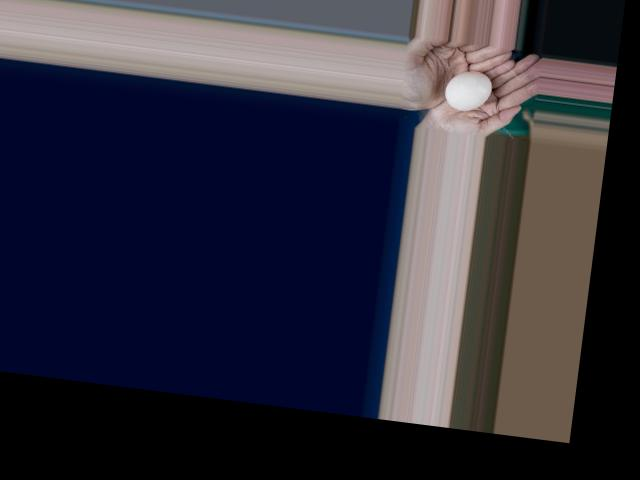egg: (444, 68, 494, 112)
